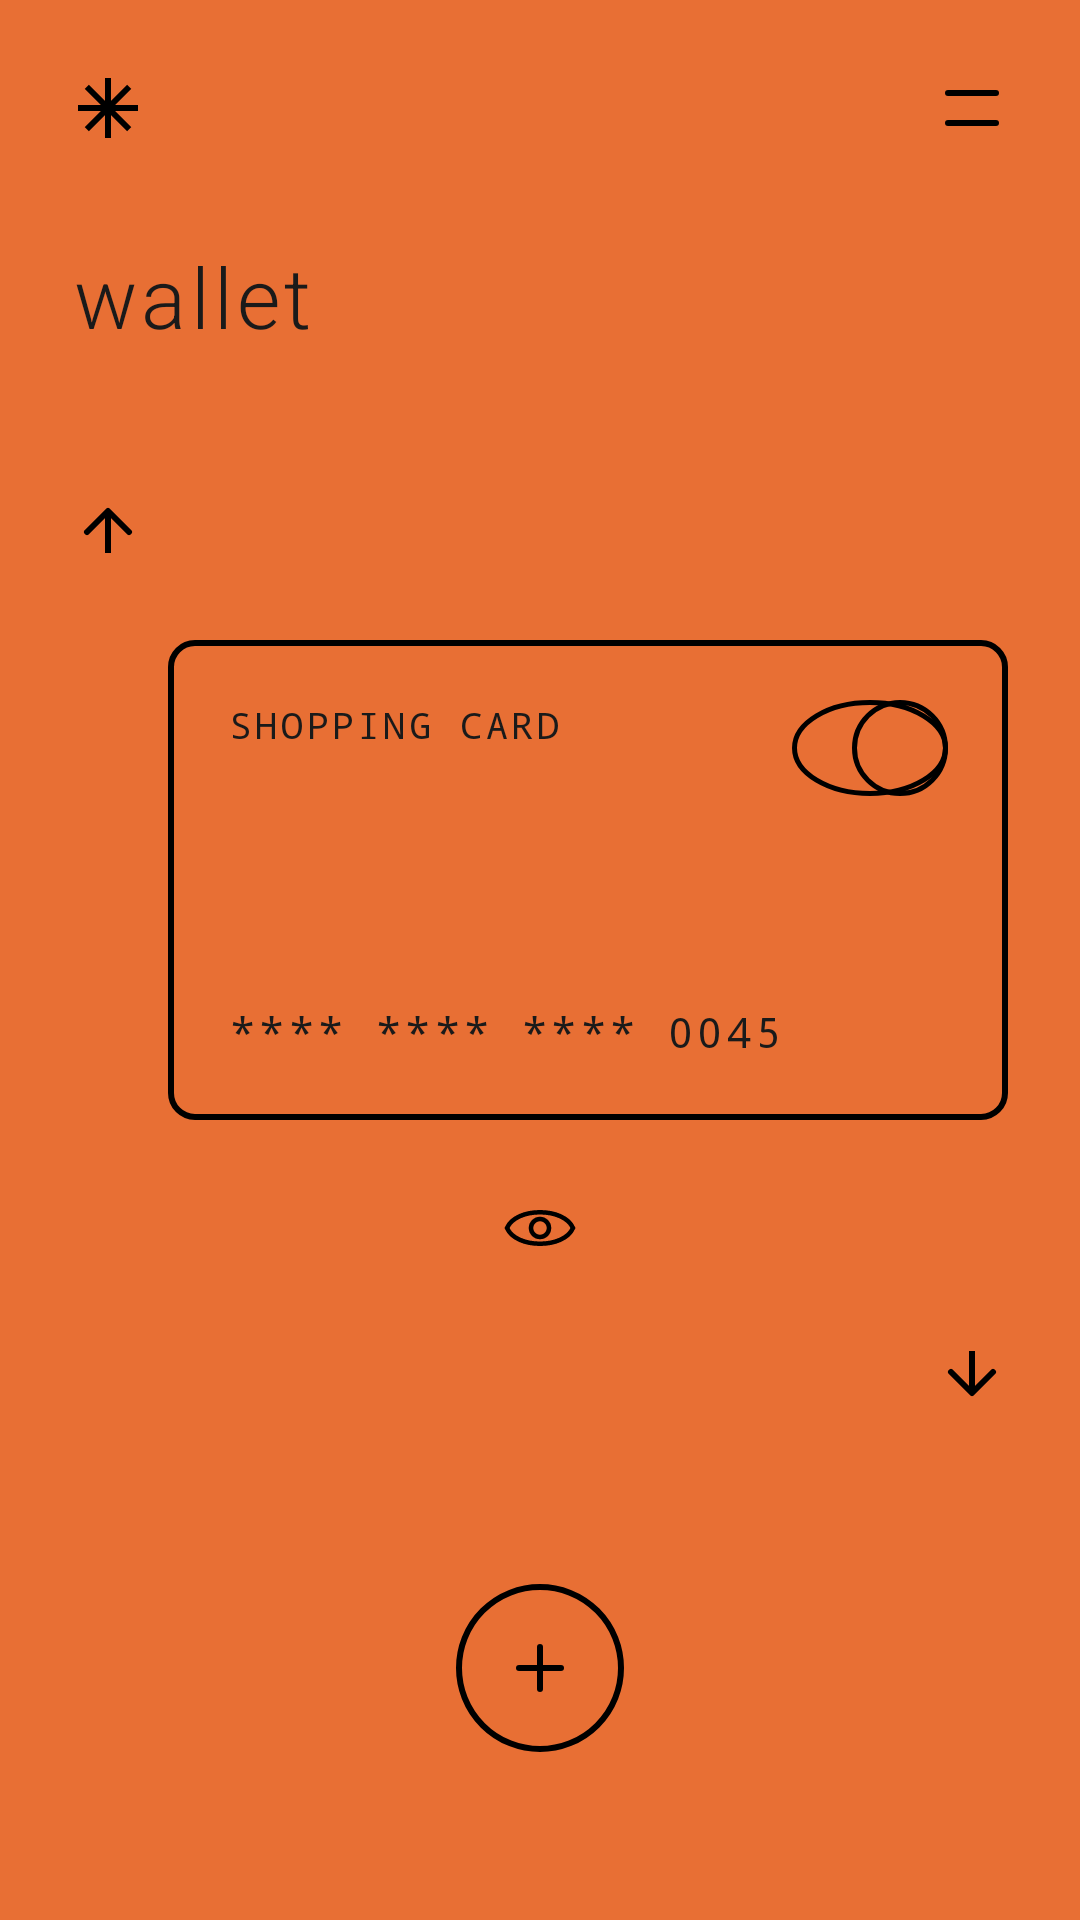

Point at icon controls on the screen. Image size 1080*1920, points as [x,y].
Add card: [540,1668]
Menu: [972,108]
Next card: [972,1373]
Previous card: [108,530]
Toggle visibility: [540,1228]
